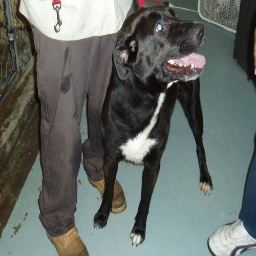dog: (95, 7, 218, 247)
